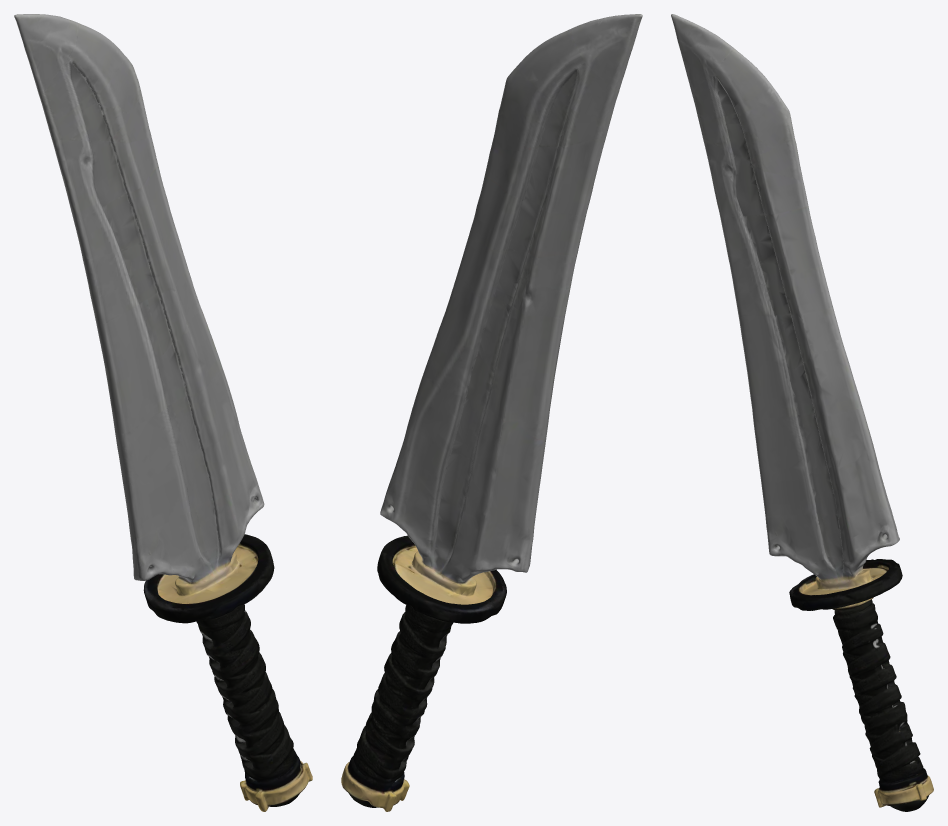
Rendered from weapon-tripo-sword.glb.
3 views of the same model, side by side, from view 1: azimuth 30°, elevation 25°; view 2: azimuth 150°, elevation 25°; view 3: azimuth 330°, elevation 25° (orthographic). The views are drawn at different scales.
Visible parts, largest first — view 1: tripo_node_5414b22b-77e9-4d20-9ab8-55fb8d45bacc; view 2: tripo_node_5414b22b-77e9-4d20-9ab8-55fb8d45bacc; view 3: tripo_node_5414b22b-77e9-4d20-9ab8-55fb8d45bacc.
Part boxes in pixels (left/top/right/bottom): tripo_node_5414b22b-77e9-4d20-9ab8-55fb8d45bacc: left=14, top=14, right=312, bottom=811; tripo_node_5414b22b-77e9-4d20-9ab8-55fb8d45bacc: left=341, top=14, right=642, bottom=811; tripo_node_5414b22b-77e9-4d20-9ab8-55fb8d45bacc: left=671, top=14, right=933, bottom=811.
Bounding box in the file's own units: 0.362 × 1 × 0.1326.
Materials: 1 (1 with a texture image).
